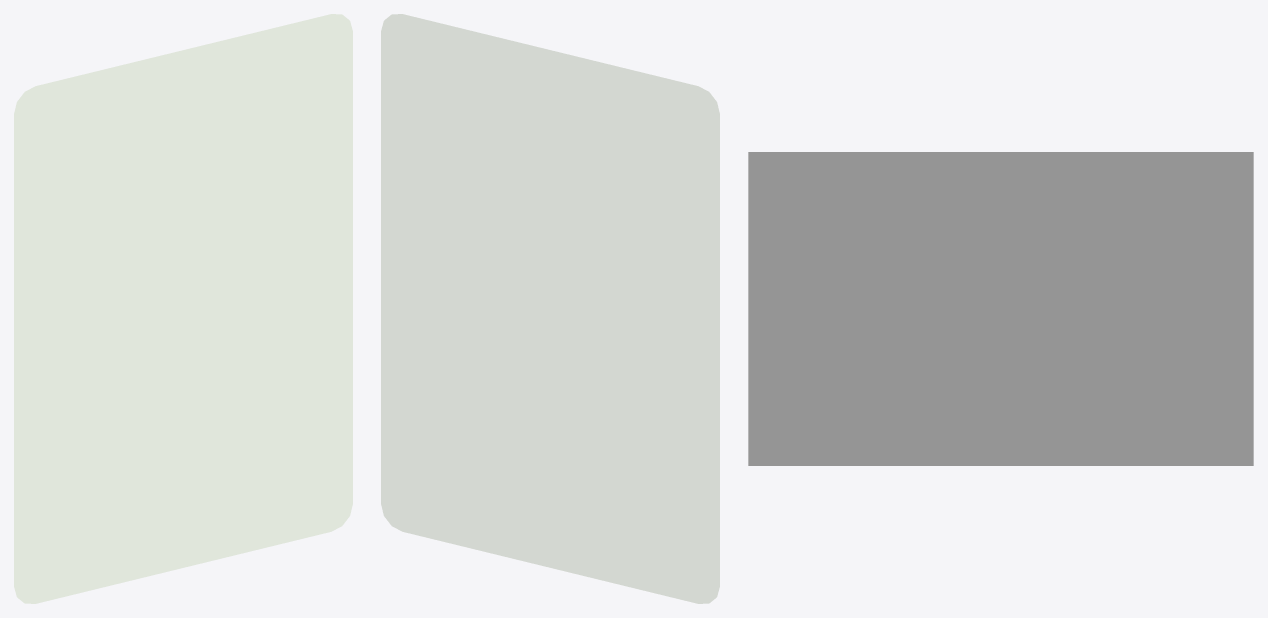
Rendered from PlasticPlatev3.gltf.
The picture shows the model from 3 angles, left to right: view 1: azimuth 30°, elevation 25°; view 2: azimuth 150°, elevation 25°; view 3: azimuth 270°, elevation 25°; orthographic projection. The views are drawn at different scales.
Visible parts, largest first — view 1: Plane.001; view 2: Plane.001; view 3: Plane.
Part boxes in pixels (x1=…): Plane.001: x1=14, y1=14, x2=352, y2=603; Plane.001: x1=381, y1=14, x2=719, y2=603; Plane: x1=748, y1=152, x2=1253, y2=465.
Bounding box in the file's own units: 2 × 2.92 × 2.92.
